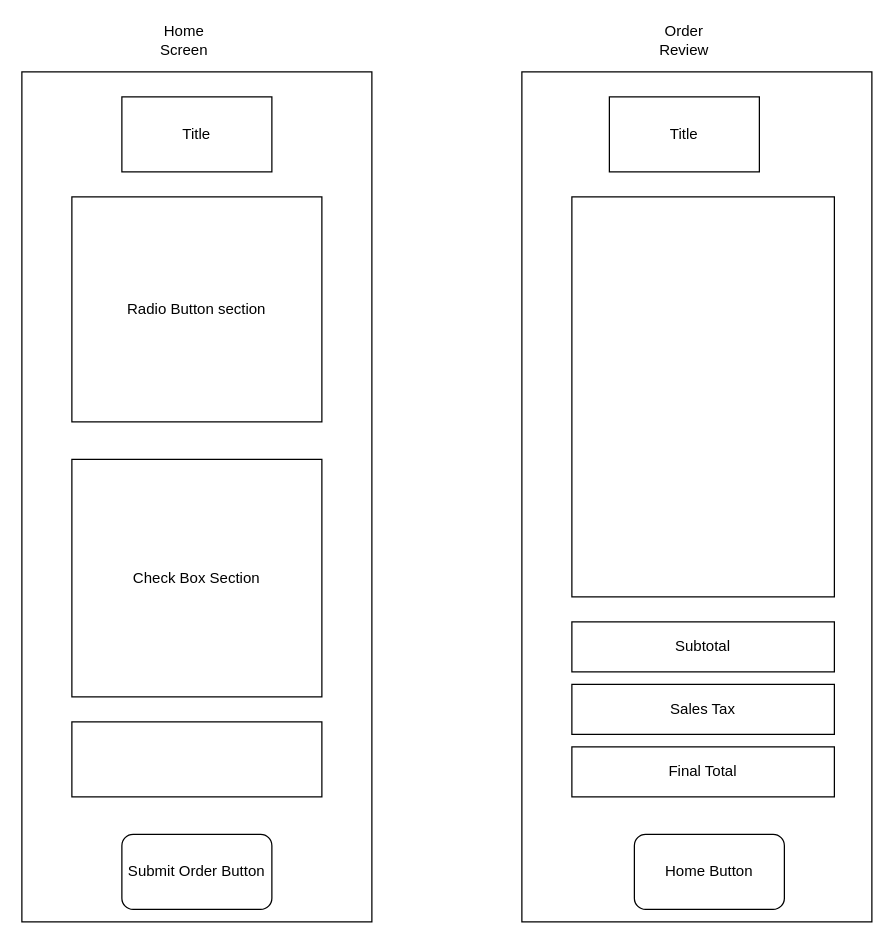
The diagram is 894 pixels wide and 944 high, and some of its shapes have lost their labels. Here are the shapes that lost their labels. From the top down, the box of each, then its label:
(571, 196, 834, 597): Detailed breakdown of all services and options chosen
(71, 721, 322, 797): Switches Section
